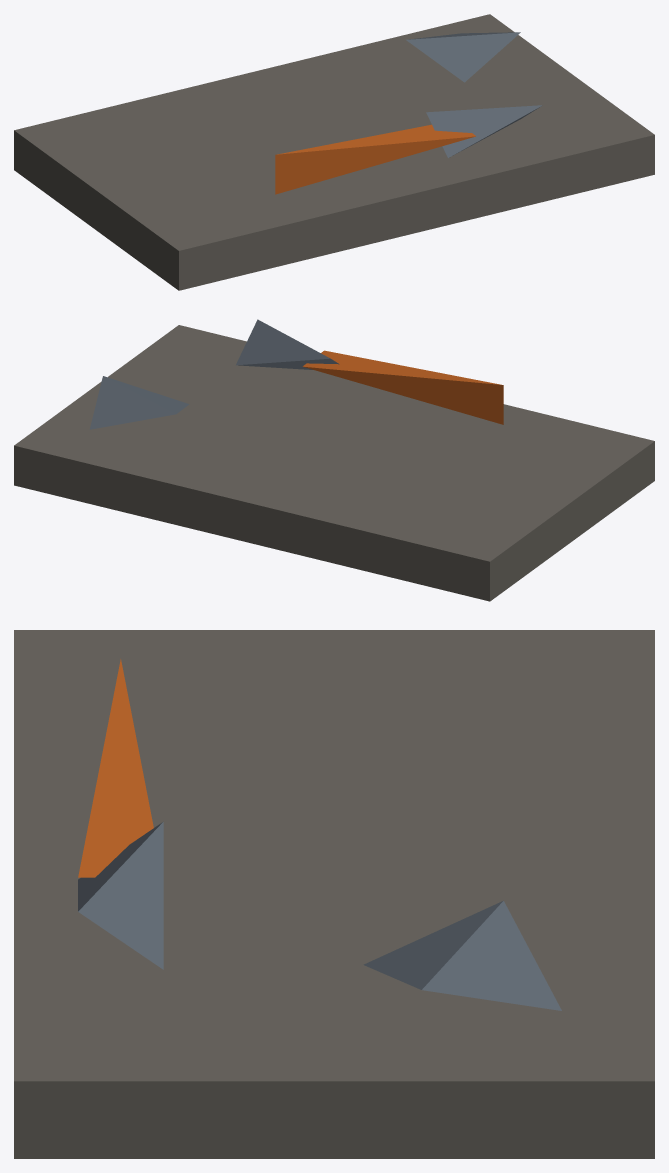
File: tool-roll.lod.glb
3 views of the same model, one above another, from view 1: azimuth 30°, elevation 25°; view 2: azimuth 150°, elevation 25°; view 3: azimuth 270°, elevation 25° (orthographic). The views are drawn at different scales.
Visible parts, largest first — view 1: tool-roll; view 2: tool-roll; view 3: tool-roll.
Boxes of the visible parts, bbox=[...] form: tool-roll: bbox=[14, 14, 654, 290]; tool-roll: bbox=[14, 319, 654, 601]; tool-roll: bbox=[14, 630, 654, 1158].
Size of the model in its own units: 0.5 by 0.086 by 0.3.
